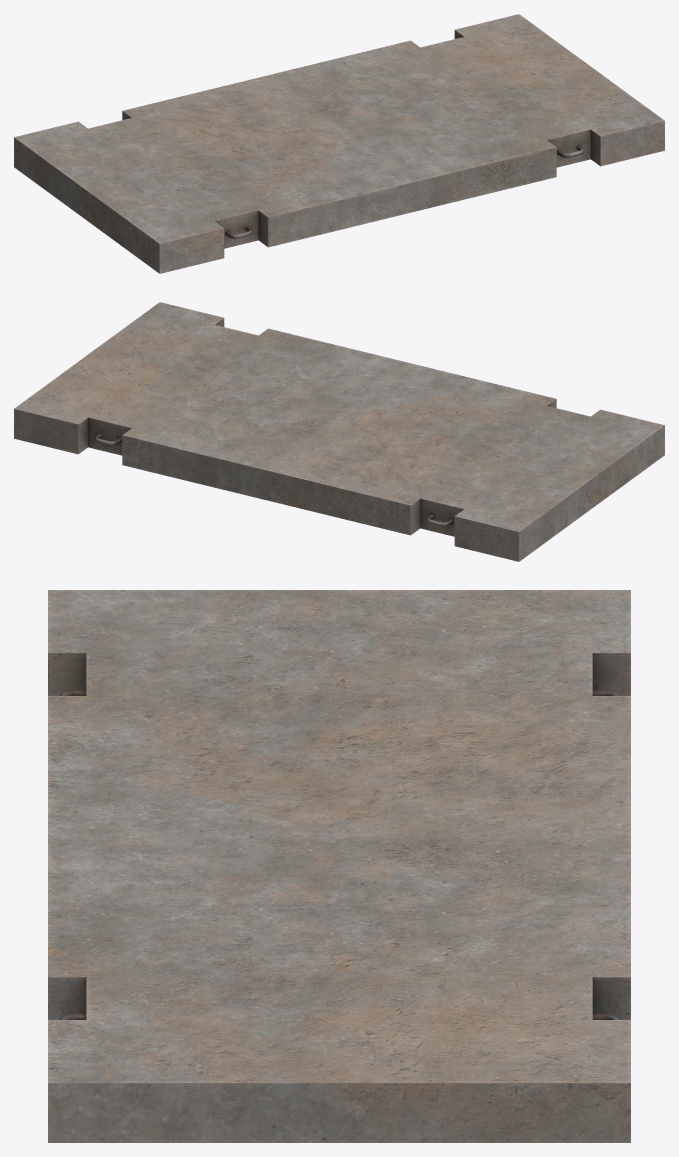
File: road_plate.glb
3 renders of one model, top to bottom at view 1: azimuth 30°, elevation 25°; view 2: azimuth 150°, elevation 25°; view 3: azimuth 270°, elevation 25°, orthographic. The views are drawn at different scales.
Visible parts, largest first — view 1: m_Road_plate; view 2: m_Road_plate; view 3: m_Road_plate.
Part boxes in pixels (left/top/right/bottom): m_Road_plate: left=14, top=14, right=664, bottom=273; m_Road_plate: left=14, top=302, right=664, bottom=561; m_Road_plate: left=48, top=590, right=630, bottom=1142.
Size of the model in its own units: 2 by 0.1133 by 1.
1 material, 1 textured.
